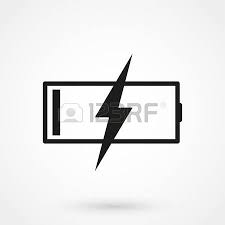charging sign: (19, 45, 197, 180)
